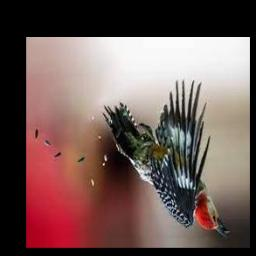Woodpecker: (103, 80, 231, 239)
